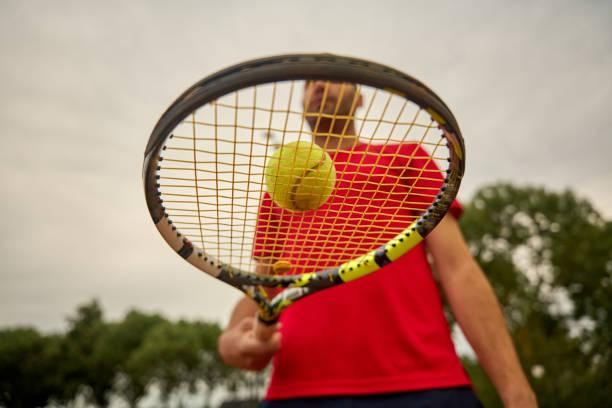ball_tennis: (264, 140, 338, 213)
